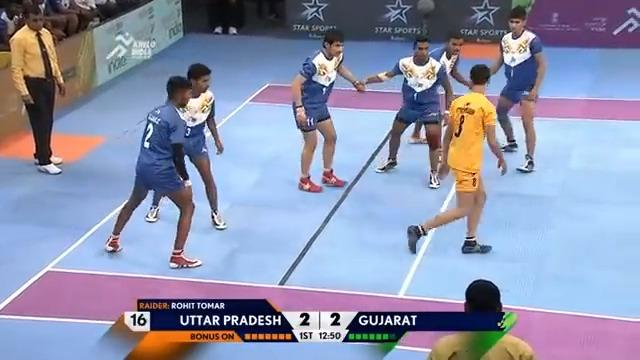Player: (102, 74, 205, 270), (361, 33, 454, 188), (288, 28, 365, 193), (484, 5, 547, 174), (176, 59, 219, 241)
Raider: (405, 63, 508, 256)
referee: (8, 3, 66, 174), (426, 278, 535, 359)
